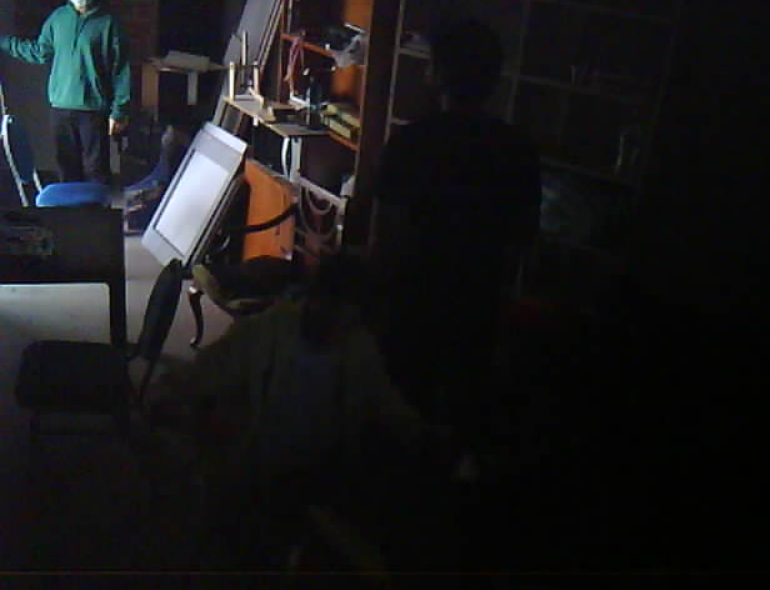person: (128, 225, 424, 563), (352, 20, 564, 397), (0, 0, 137, 204)
